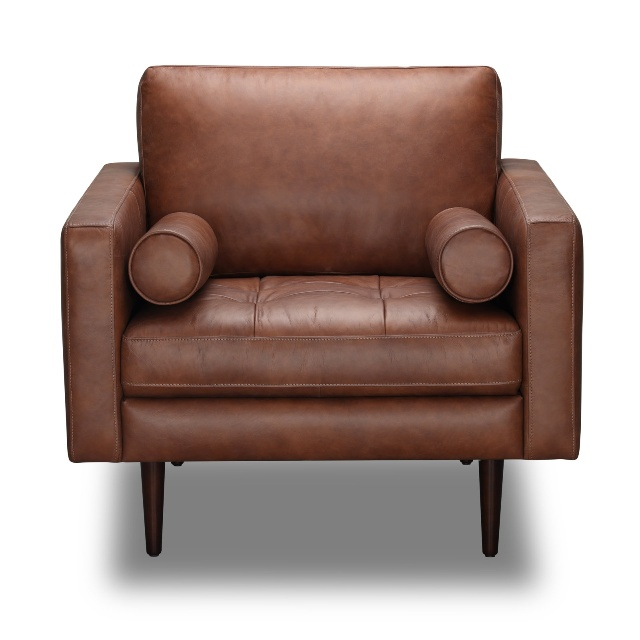obstacle: (62, 66, 582, 555)
